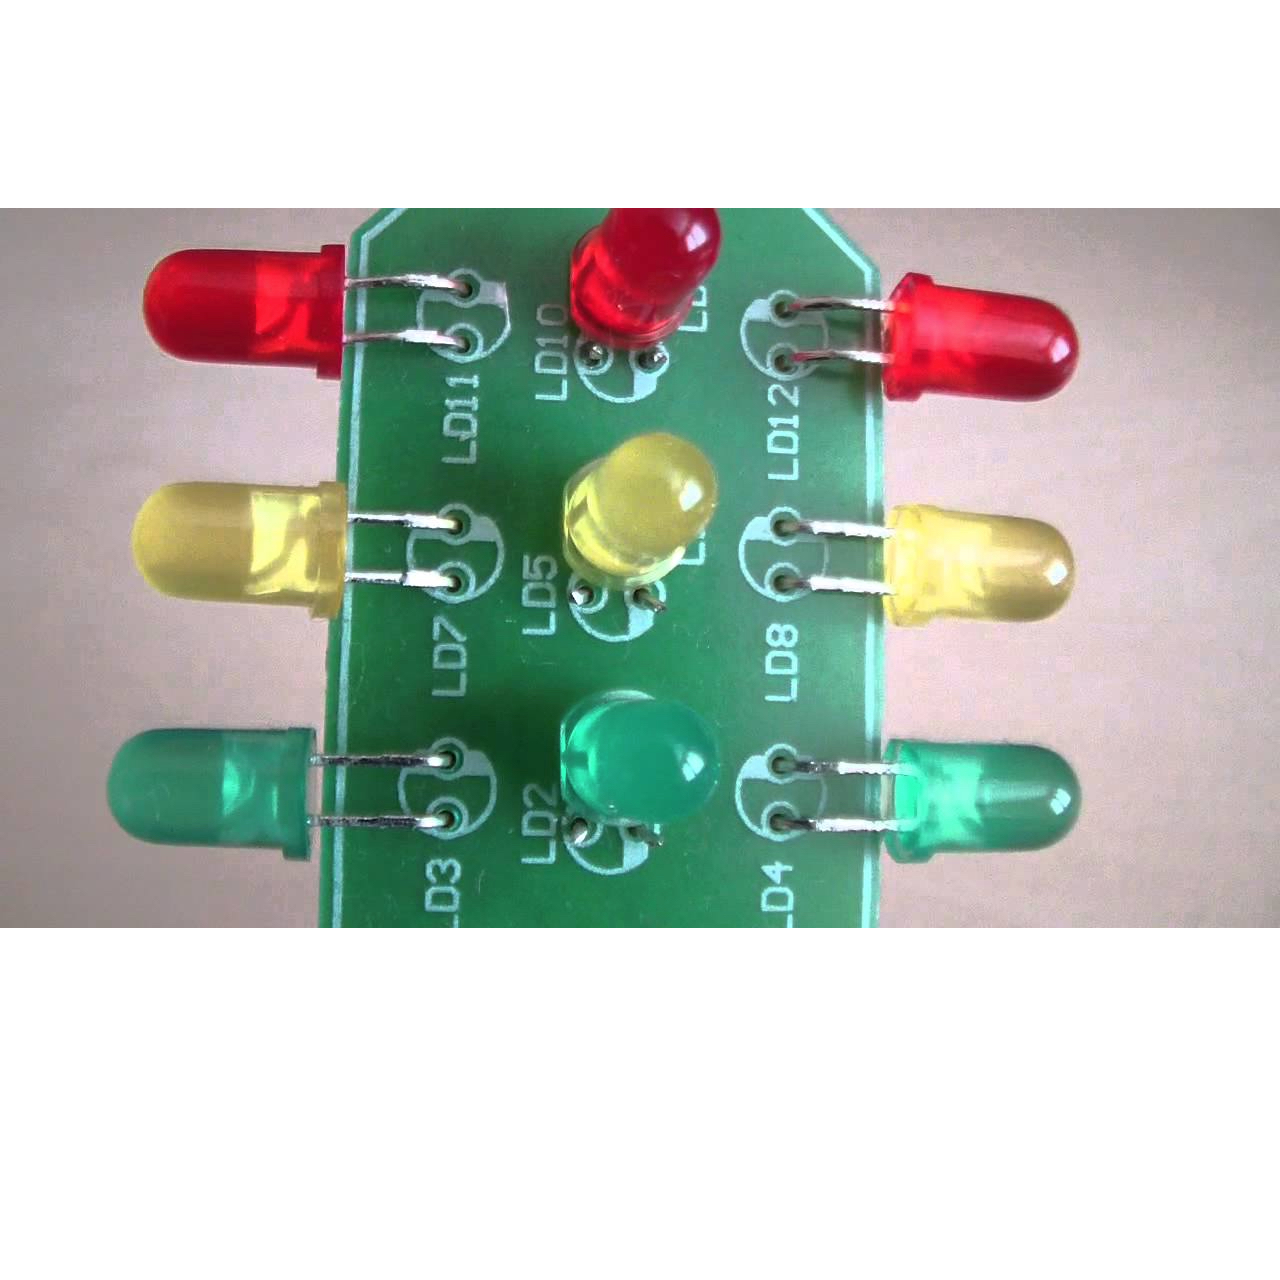LED: (129, 476, 352, 624), (103, 722, 320, 869), (138, 239, 349, 383), (880, 273, 1081, 406), (881, 735, 1084, 865), (559, 429, 719, 593), (880, 502, 1077, 627), (557, 688, 722, 833), (570, 207, 726, 350)
